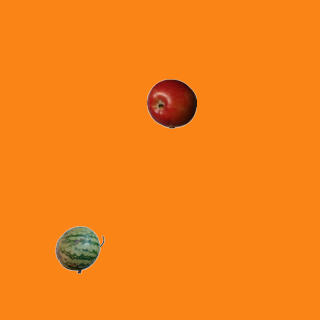Apple Braeburn: (146, 78, 196, 128)
Watermelon: (54, 224, 104, 274)
